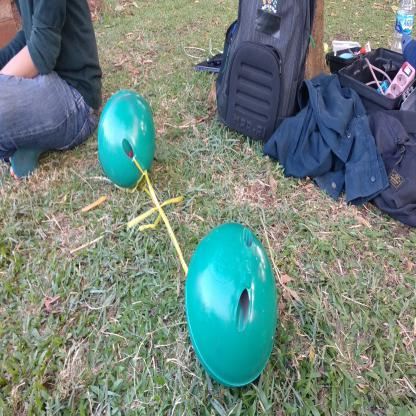green_buoy: (184, 219, 279, 381), (98, 88, 154, 192)
